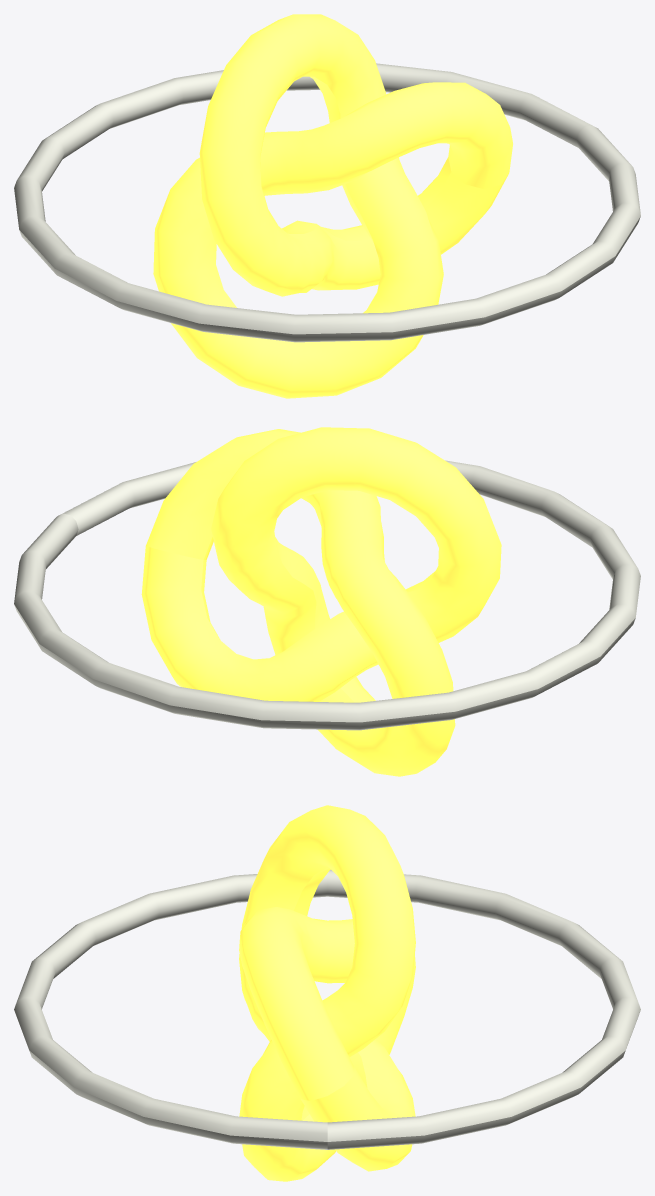
The model's file is pickup-life.glb.
The picture shows the model from 3 angles, top to bottom: view 1: azimuth 30°, elevation 25°; view 2: azimuth 150°, elevation 25°; view 3: azimuth 270°, elevation 25°; orthographic projection.
Visible parts, largest first — view 1: pickup_core, capture_ring; view 2: pickup_core, capture_ring; view 3: pickup_core, capture_ring.
Boxes of the visible parts, box(x1,y1,x2,y2) form: pickup_core: box(153, 14, 512, 398); capture_ring: box(14, 63, 640, 342); pickup_core: box(141, 427, 501, 776); capture_ring: box(14, 460, 640, 730); pickup_core: box(239, 805, 415, 1181); capture_ring: box(14, 870, 640, 1149).
Bounding box in the file's own units: 498 × 306 × 498.
